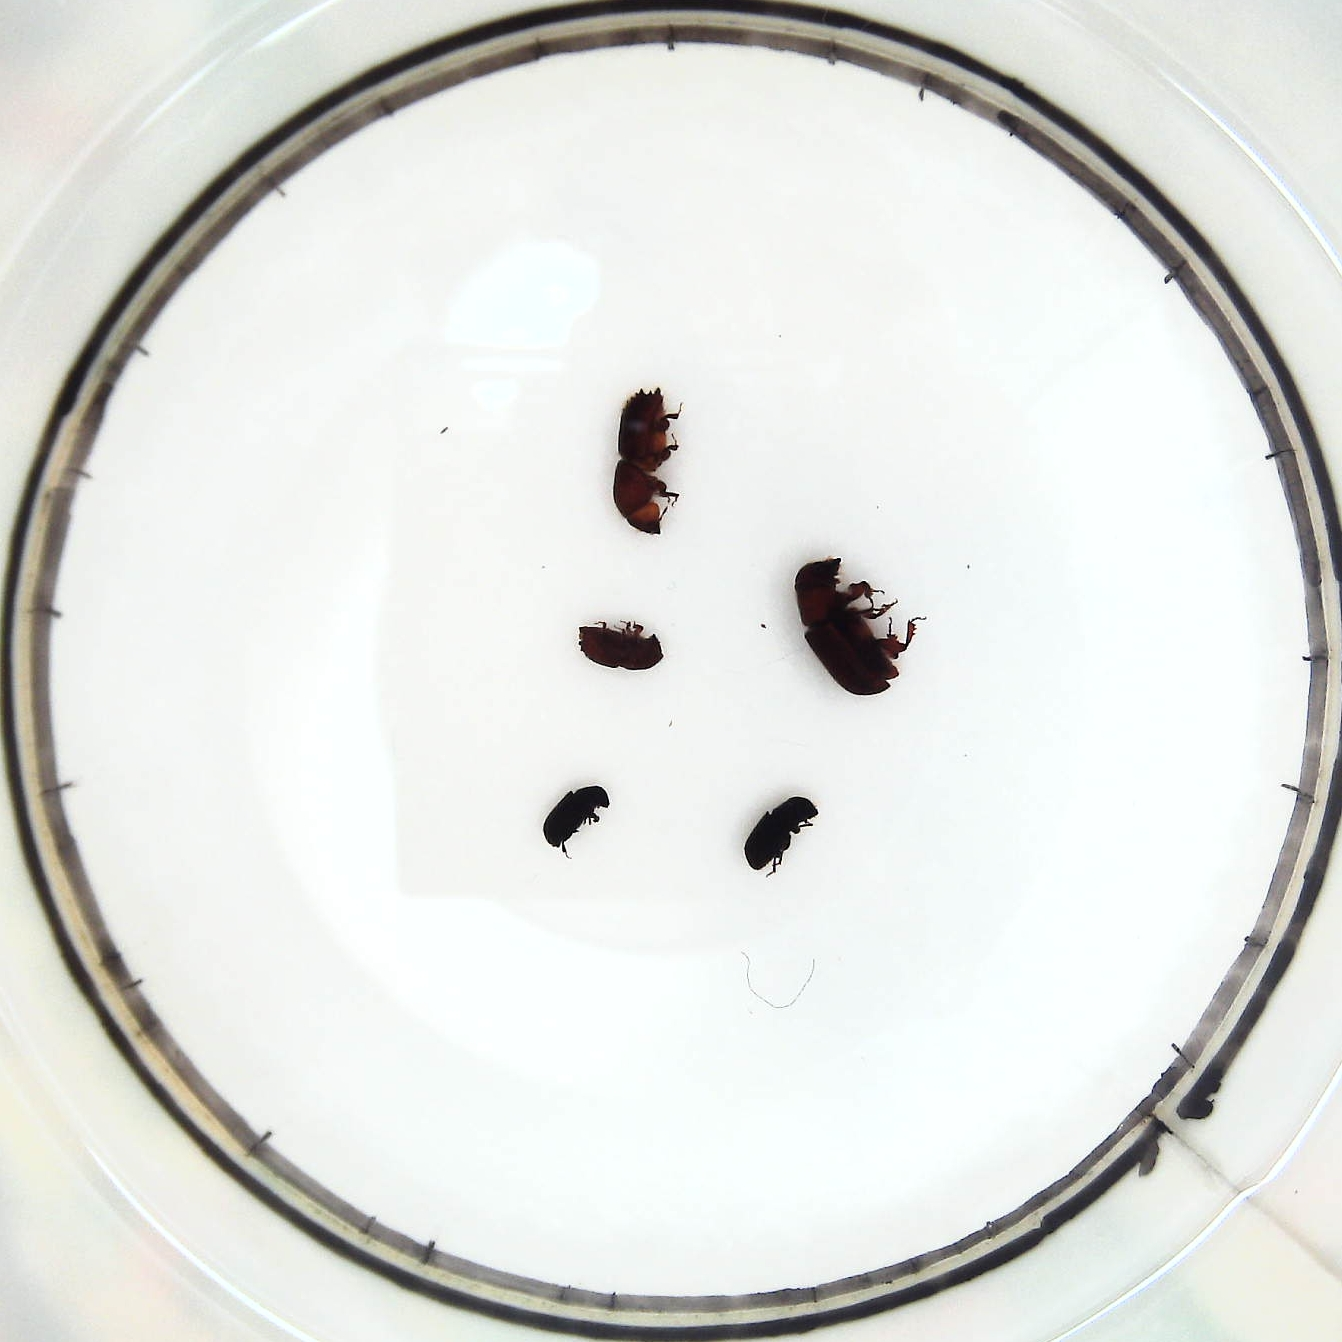Boerner: (613, 377, 685, 541)
Leconte: (789, 553, 923, 697)
armandi: (740, 791, 823, 875)
coleoptera: (540, 780, 613, 853)
linnaeus: (571, 616, 669, 675)
